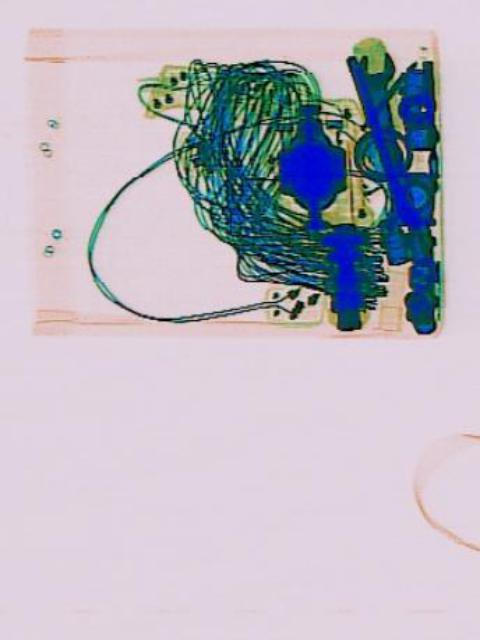Wrench: (351, 44, 426, 238)
